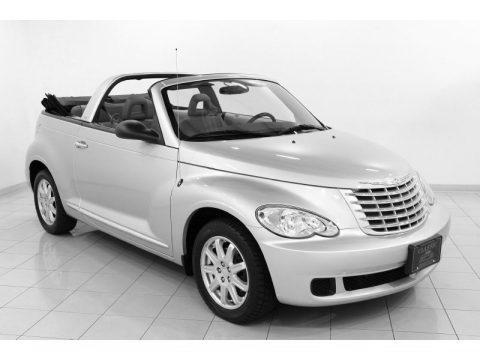car: (24, 45, 452, 325)
